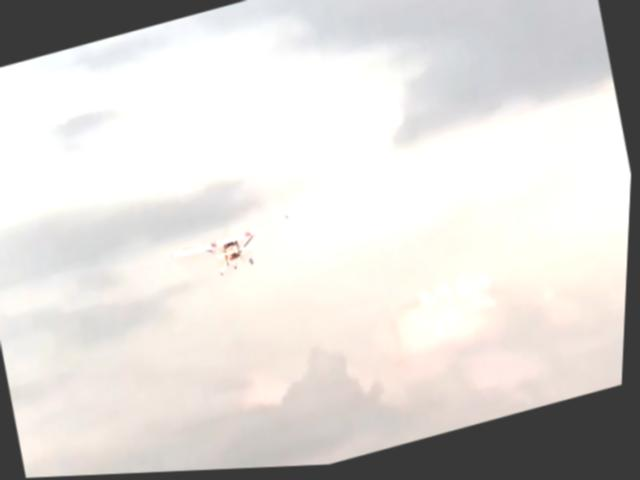plane: (171, 217, 296, 285)
